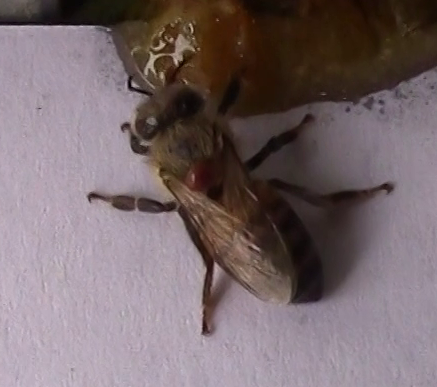Varroa destructor: (181, 156, 223, 194)
